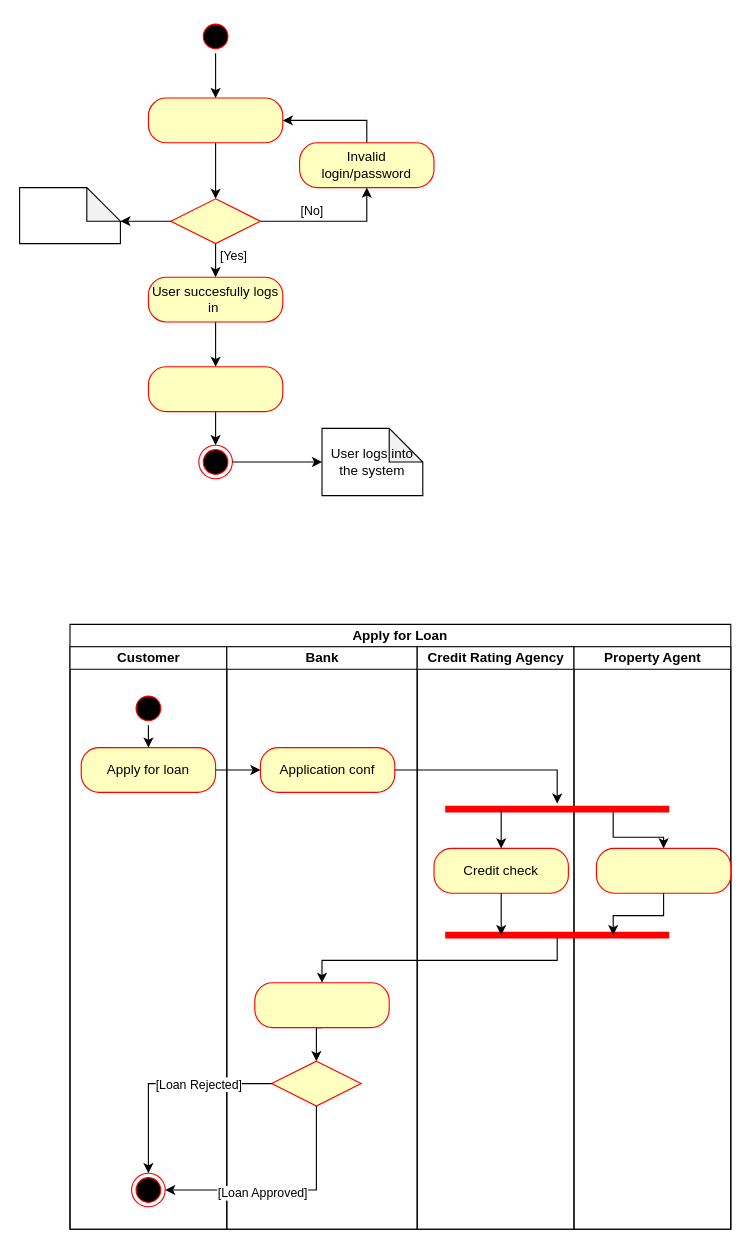
This 750x1249 diagram has some shape labels left out. Here are the shapes that lost their labels. From the top down, the centre of each, then its label:
At (215,120): "User enters login name and password".
At (69,215): "Correct login and password".
At (215,389): "User's settings are displayed".
At (663,870): "Property value assessment".
At (321,1005): "Risk assessment".
